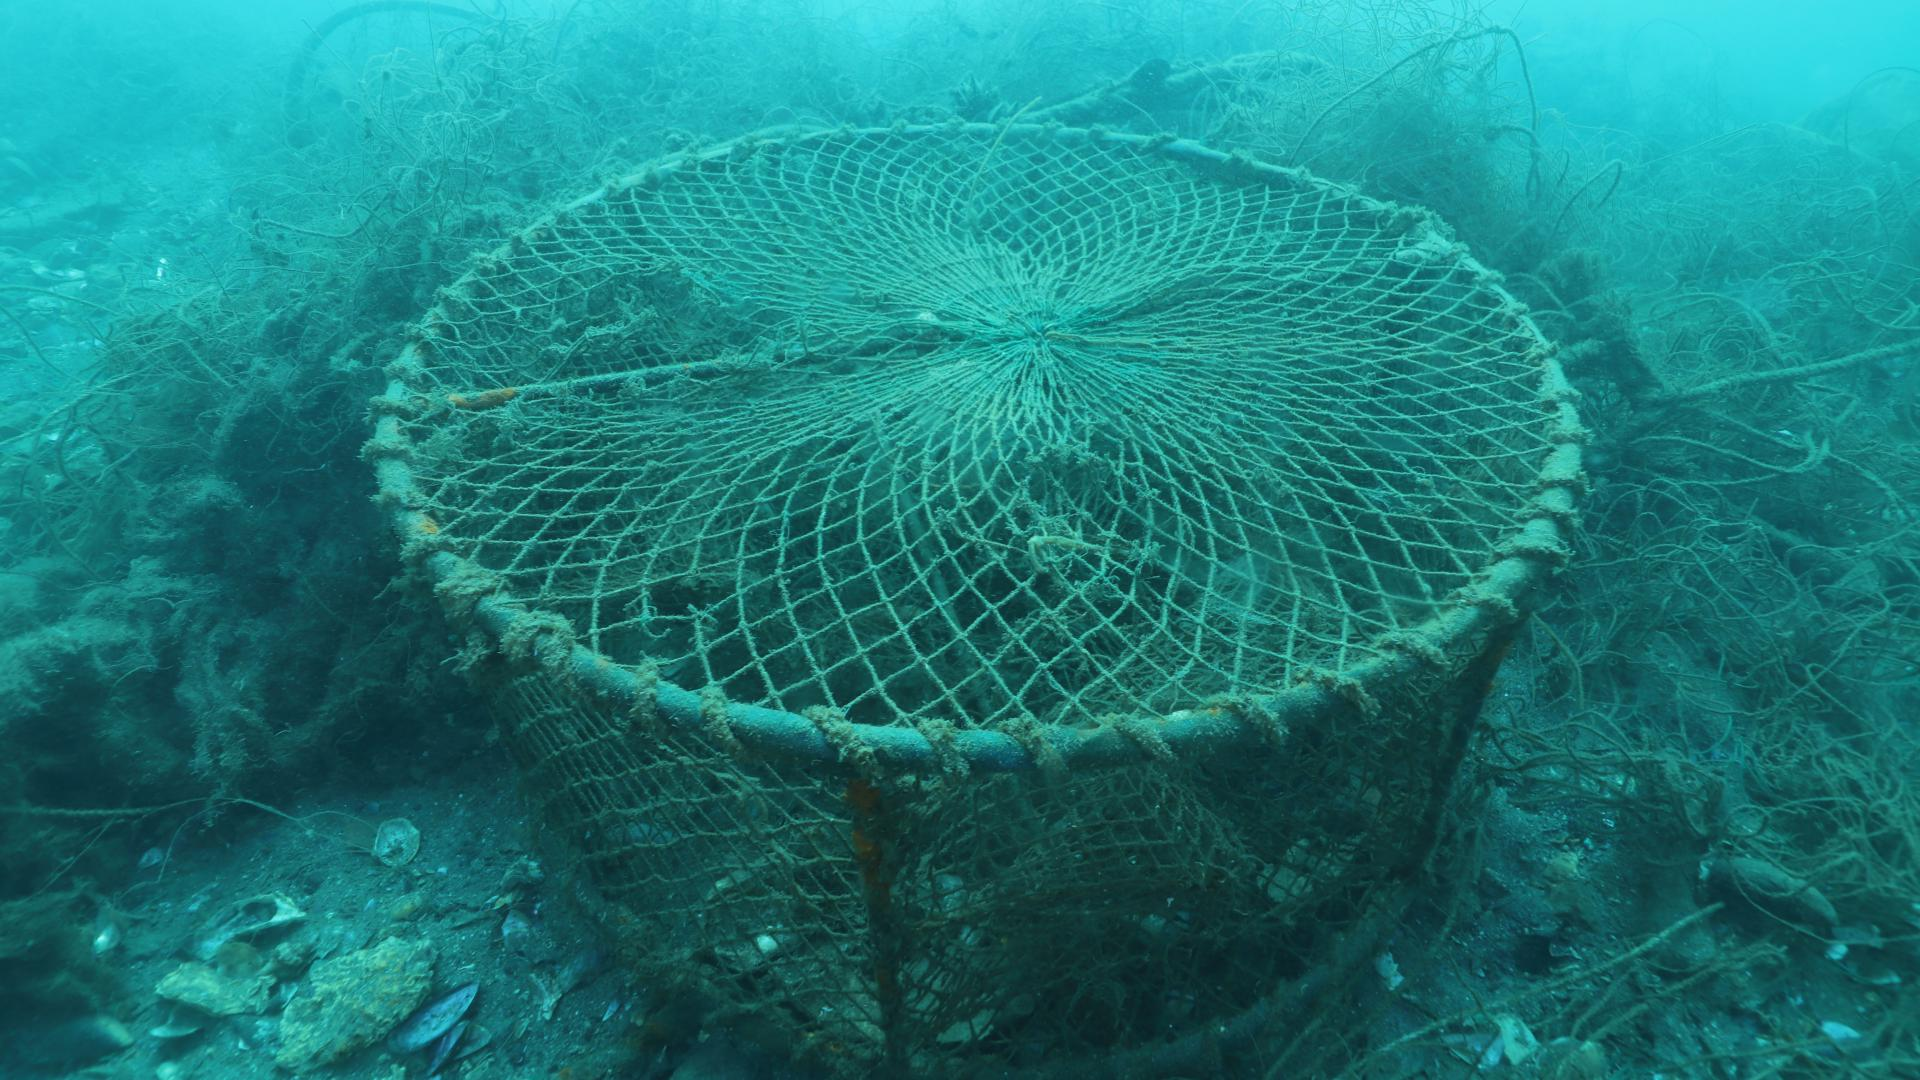circular fish trap: (371, 123, 1590, 1080)
